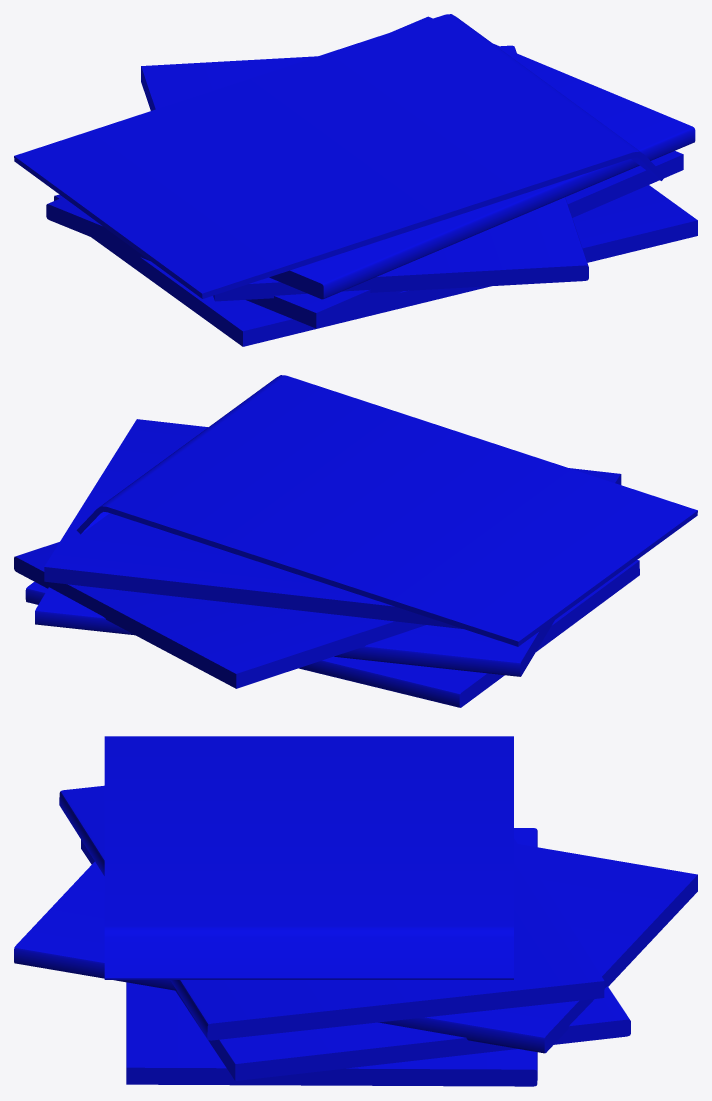
The model's file is ClutterPile_Rec_4.FBX.
3 views of the same model, one above another, from view 1: azimuth 30°, elevation 25°; view 2: azimuth 150°, elevation 25°; view 3: azimuth 270°, elevation 25° (orthographic). The views are drawn at different scales.
Parts seen in each view (by area): view 1: ClutterPile_Rec_4; view 2: ClutterPile_Rec_4; view 3: ClutterPile_Rec_4.
Part boxes in pixels (box(x1,y1,x2,y2)): ClutterPile_Rec_4: box(14, 14, 697, 346); ClutterPile_Rec_4: box(14, 375, 697, 707); ClutterPile_Rec_4: box(14, 736, 697, 1086).
Bounding box in the file's own units: 9.97 × 1.95 × 10.02.
